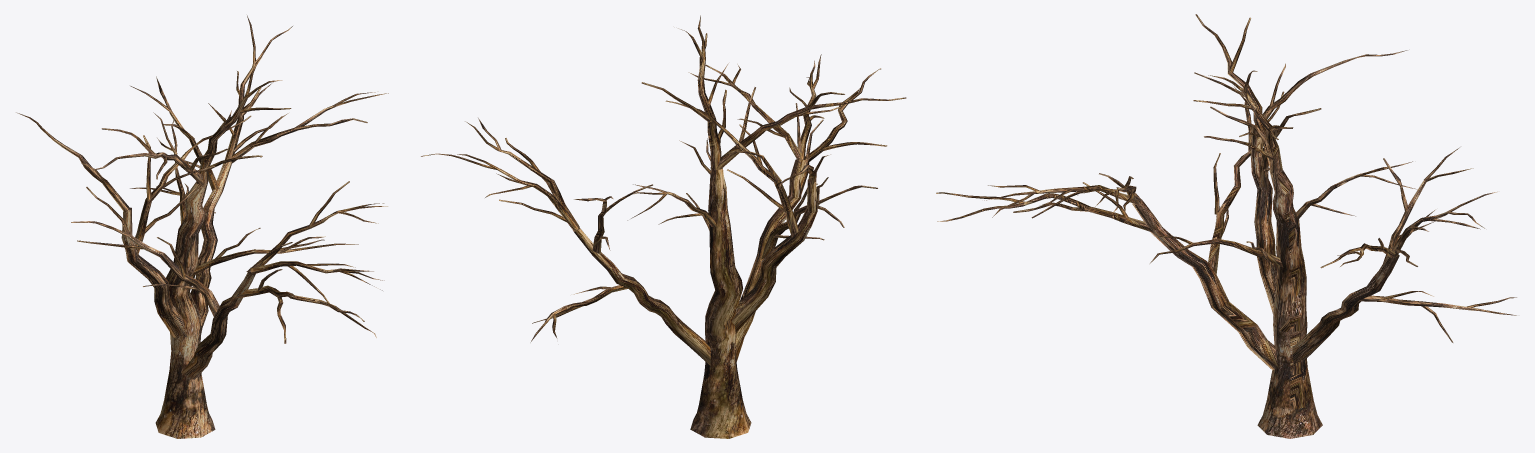
The model's file is ADDON_PLANTS_DEADTREE_01_2300P.glb.
3 renders of one model, left to right at view 1: azimuth 30°, elevation 25°; view 2: azimuth 150°, elevation 25°; view 3: azimuth 270°, elevation 25°, orthographic. The views are drawn at different scales.
Parts seen in each view (by area): view 1: Mesh; view 2: Mesh; view 3: Mesh.
Part boxes in pixels (bbox=[...]): Mesh: bbox=[16, 15, 388, 438]; Mesh: bbox=[421, 15, 906, 438]; Mesh: bbox=[936, 14, 1516, 438].
Size of the model in its own units: 21.45 by 20.49 by 28.15.
Materials: 1 (1 with a texture image).
